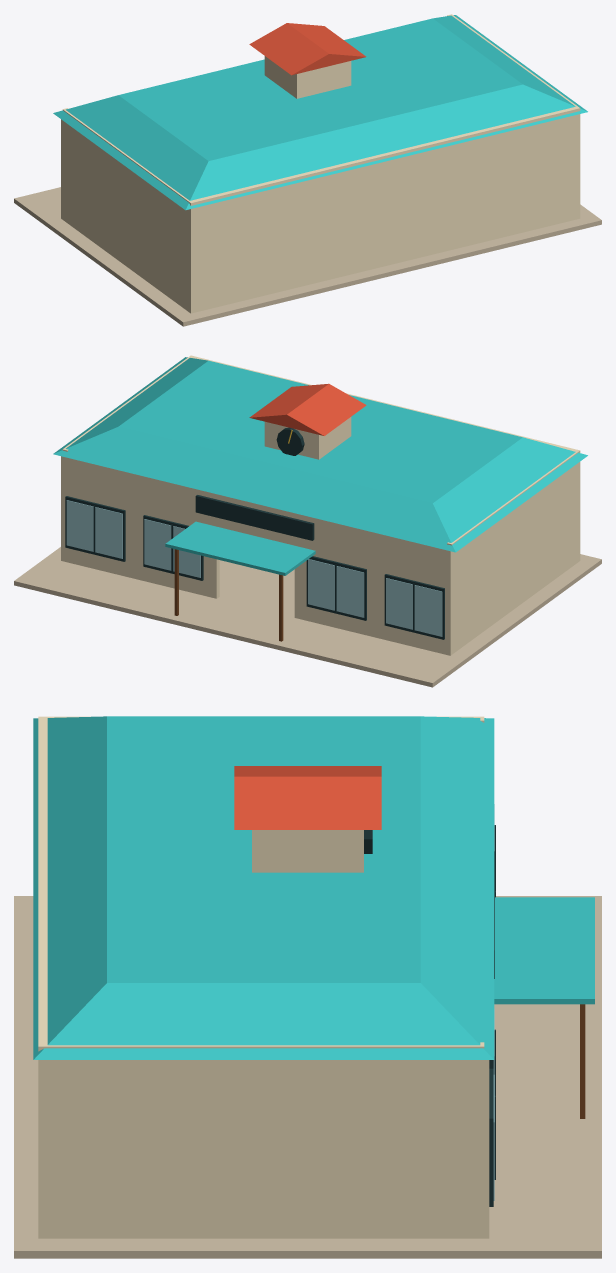
The model's file is guide_office.fbx.
3 renders of one model, top to bottom at view 1: azimuth 30°, elevation 25°; view 2: azimuth 150°, elevation 25°; view 3: azimuth 270°, elevation 25°, orthographic. The views are drawn at different scales.
Visible parts, largest first — view 1: guide_office; view 2: guide_office; view 3: guide_office.
Part boxes in pixels (x1,y1,x2,y2): guide_office: (14,14,601,326); guide_office: (14,355,601,687); guide_office: (14,716,601,1258).
Bounding box in the file's own units: 20 × 8 × 14.
